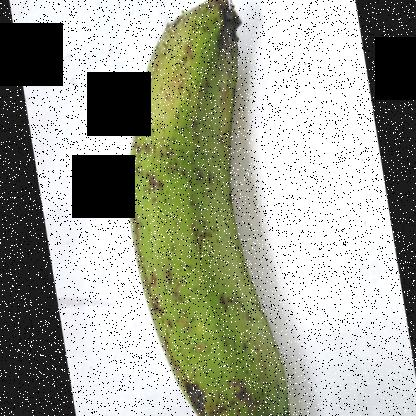unripe: (104, 0, 304, 415)
